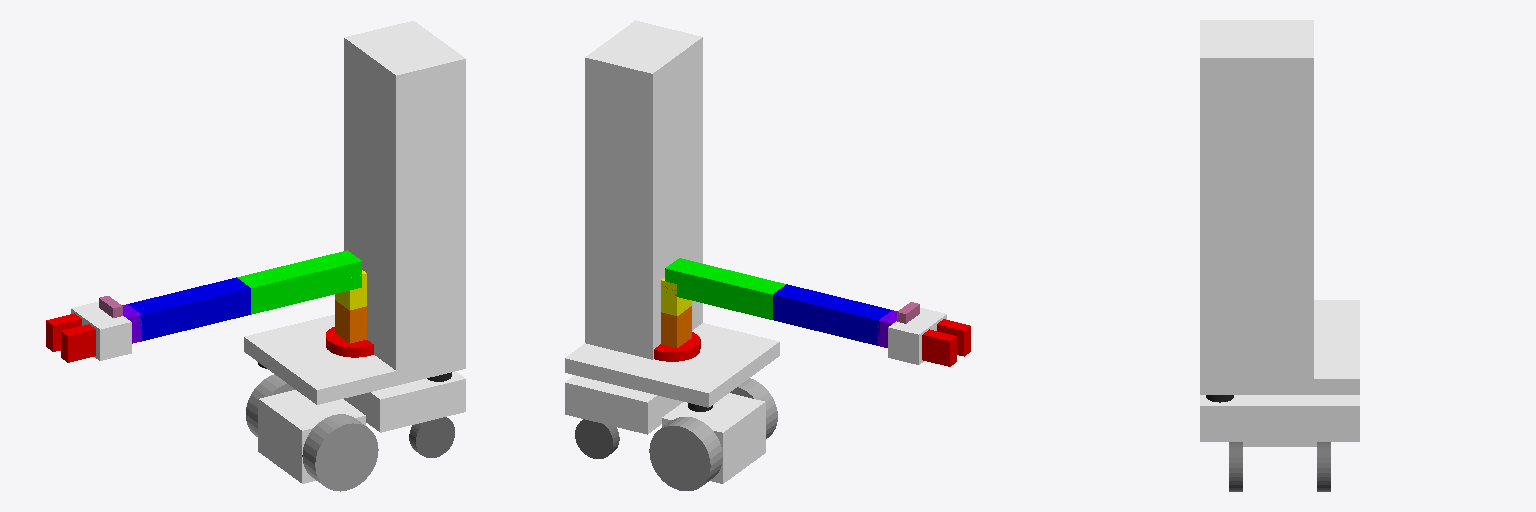
--- Render facts (derived) ---
Views: 3 orthographic renders of the robot side by side, from view 1: azimuth 30°, elevation 25°; view 2: azimuth 150°, elevation 25°; view 3: azimuth 270°, elevation 25°.
Model mbse with 23 links and 22 joints (6 revolute, 6 continuous, 3 prismatic, 7 fixed), rooted at mobilebaseI, posed every joint at zero.
Visible links, largest first — view 1: Torsol, mobilebaseIV, mobilebaseI, Revlink3, Revlink4, Wheel_Left, mobilebaseII, Hand, CasterWheel_Left, FingerLeft, Revlink1, Wheel_Right (+3 smaller); view 2: Torsol, mobilebaseIV, Revlink4, Wheel_Right, mobilebaseI, mobilebaseII, Revlink3, Hand, CasterWheel_Right, FingerRight, Revlink1, Wheel_Left (+3 smaller); view 3: Torsol, mobilebaseII, mobilebaseIV, CasterWheel_Left, CasterWheel_Right.
Boxes of the visible links, <box> form: Torsol: <box>344,21,465,370</box>; mobilebaseIV: <box>244,315,465,404</box>; mobilebaseI: <box>258,390,365,483</box>; Revlink3: <box>237,250,361,314</box>; Revlink4: <box>128,277,250,341</box>; Wheel_Left: <box>302,414,378,491</box>; mobilebaseII: <box>344,371,465,432</box>; Hand: <box>71,302,131,360</box>; CasterWheel_Left: <box>409,417,454,457</box>; FingerLeft: <box>61,324,95,362</box>; Revlink1: <box>335,300,366,343</box>; Wheel_Right: <box>246,374,295,436</box>; Torsol: <box>585,20,702,359</box>; mobilebaseIV: <box>565,323,779,407</box>; Revlink4: <box>773,284,891,345</box>; Wheel_Right: <box>649,417,722,490</box>; mobilebaseI: <box>662,393,765,483</box>; mobilebaseII: <box>565,375,682,434</box>; Revlink3: <box>665,258,785,319</box>; Hand: <box>888,308,946,364</box>; CasterWheel_Right: <box>575,419,619,458</box>; FingerRight: <box>922,329,956,366</box>; Revlink1: <box>661,306,691,347</box>; Wheel_Left: <box>730,378,777,438</box>; Torsol: <box>1200,20,1313,378</box>; mobilebaseII: <box>1200,395,1359,441</box>; mobilebaseIV: <box>1200,300,1359,394</box>; CasterWheel_Left: <box>1229,442,1242,491</box>; CasterWheel_Right: <box>1317,442,1330,491</box>.
Bounding box of the posed robot: 1.18 × 0.4 × 1.22 m (x, y, z).
Geometry: primitives only (box / cylinder / sphere), no mesh files.

URDF robot description (mbse):
<!-- <?xml version="1.0"?> -->


<robot name="mbse">
    
    <link name="mobilebaseI">
        <visual name="mobilebaseI">
            <geometry name = "mobilebaseI">
                <box size="0.200 0.240 0.160"/>
                <origin xyz="0.0 0.0 0.080" rpy="0.0 0.0 0.0"/>
            </geometry>
            <material name="white">
                <color rgba="1.0 1.0 1.0 1.0"/>
            </material>
        </visual>
        <inertial>
            <mass value="2.0"/>
            <inertia ixx="5.0" ixy="0.0" ixz="0.0" 
                     iyy="7.0" iyz="0.0" izz="6.0"/>
        </inertial>
        <collision>
            <origin xyz="0.0 0.0 0.080" rpy="0.0 0.0 0.0"/>
            <geometry name = "mobilebaseI">
                <box size="0.200 0.240 0.160"/>
                
            </geometry>
        </collision>
    </link>

    <link name="mobilebaseII">
        <visual name="mobilebaseII">
            <geometry name = "mobilebaseII">
                <box size="0.270 0.400 0.100"/>
                <origin xyz="0.0 0.0 0.00" rpy="0.0 0.0 0.0"/>
            </geometry>
            <material name="white">
            </material>
        </visual>
        <inertial>
            <mass value="18.0"/>
            <inertia ixx="8.0" ixy="0.0" ixz="0.0" 
                     iyy="2.0" iyz="0.0" izz="1.0"/>
        </inertial>
        <collision>
            <origin xyz="0.0 0.0 0.00" rpy="0.0 0.0 0.0"/>
            <geometry name = "mobilebaseII">
                <box size="0.270 0.400 0.100"/>
                
            </geometry>
        </collision>
    </link>

    <joint name="MobileBaseWheel" type="fixed">
        <origin xyz="0.235 0.0 0.110" rpy="0.0 0.0 0.0"/>
        <parent link="mobilebaseI"/>
        <child link="mobilebaseII"/>
    </joint>

    <link name="Wheel_Right">
        <inertial>
            <mass value="1.5"/>
            <inertia ixx="8.0" ixy="0.0" ixz="0.0" 
                     iyy="4.0" iyz="0.0" izz="4.0"/>
        </inertial>
        <visual name="Wheel">
            <origin xyz="0.0 0.0 0.0" rpy="0.0 0.0 0.0"/>
            <geometry name = "wheel">
                <cylinder radius="0.100" length="0.070"/>
            </geometry>
            <material name="Gray1">
                <color rgba="0.7 0.7 0.7 1.0"/>
            </material>
        </visual>
        <collision>
            <origin xyz="0.0 0.0 0.0" rpy="0.0 0.0 0.0"/>
            <geometry name = "wheel">
                <cylinder radius="0.100" length="0.070"/>
                
            </geometry>
        </collision>
    </link>

    <joint name="WheelR" type="continuous">
        <origin xyz="0.0 0.155 0.005" rpy="1.57 0.0 0.0"/>
        <parent link="mobilebaseI"/>
        <child link="Wheel_Right"/>
        <axis xyz="0.0 0.0 1.0"/>
        <limit effort="1000.0" velocity="10.0"/>
    </joint>

    <link name="Wheel_Left">
        <inertial>
            <mass value="1.5"/>
            <inertia ixx="8.0" ixy="0.0" ixz="0.0" 
                     iyy="4.0" iyz="0.0" izz="4.0"/>
        </inertial>
        <visual name="Wheel">
            <origin xyz="0.0 0.0 0.0" rpy="0.0 0.0 0.0"/>
            <geometry name = "wheel">
                <cylinder radius="0.100" length="0.070"/>
            </geometry>
            <material name="Gray1">
                <color rgba="0.7 0.7 0.7 1.0"/>
            </material>
        </visual>
        <collision>
            <origin xyz="0.0 0.0 0.0" rpy="0.0 0.0 0.0"/>
            <geometry name = "wheel">
                <cylinder radius="0.100" length="0.070"/>
                
            </geometry>
        </collision>
    </link>

    <joint name="WheelL" type="continuous">
        <origin xyz="0.0 -0.155 0.005" rpy="1.57 0.0 0.0"/>
        <parent link="mobilebaseI"/>
        <child link="Wheel_Left"/>
        <axis xyz="0.0 0.0 1.0"/>
        <limit effort="1000.0" velocity="10.0"/>
    </joint>

    <link name="CasterCase_Left">
        <inertial>
            <mass value="0.06"/>
            <inertia ixx="0.2" ixy="0.0" ixz="0.0" 
                     iyy="0.6" iyz="-0.7" izz="0.2"/>
        </inertial>
        <visual name="CasterCase">
            <origin xyz="0.0 0.0 -0.005" rpy="0.0 0.0 0.0"/>
            <geometry name = "CasterC">
                <cylinder radius="0.025" length="0.010"/>
            </geometry>
            <material name="Gray1">
                <color rgba="0.7 0.7 0.7 1.0"/>
            </material>
        </visual>
        <collision>
            <origin xyz="0.0 0.0 -0.005" rpy="0.0 0.0 0.0"/>
            <geometry name = "CasterC">
                <cylinder radius="0.025" length="0.010"/>
                
            </geometry>
        </collision>
    </link>

    <joint name="CasterCL" type="fixed">
        <origin xyz="0.040 -0.110 -0.05" rpy="0.0 0.0 0.0"/>
        <parent link="mobilebaseII"/>
        <child link="CasterCase_Left"/>
        <axis xyz="0.0 0.0 1.0"/>
    </joint>

    <link name="CasterWheel_Left">
        <inertial>
            <mass value="0.3"/>
            <inertia ixx="0.6" ixy="0.0" ixz="0.0" 
                     iyy="0.3" iyz="0.0" izz="0.3"/>
        </inertial>
        <visual name="CasterWheel">
            <origin xyz="0.0 0.0 0.0" rpy="0.0 0.0 0.0"/>
            <geometry name = "Casterwheel">
                <cylinder radius="0.0625" length="0.036"/>
            </geometry>
            <material name="Gray2">
                <color rgba="0.5 0.5 0.5 1.0"/>
            </material>
        </visual>
        <collision>
            <origin xyz="0.0 0.0 0.0" rpy="0.0 0.0 0.0"/>
            <geometry name = "Casterwheel">
                <cylinder radius="0.0625" length="0.036"/>
                
            </geometry>
        </collision>
    </link>

    <joint name="CasterWheelL" type="continuous">
        <origin xyz="0.0405 0.0 -0.0925" rpy="1.57 0.0 0.0"/>
        <parent link="CasterCase_Left"/>
        <child link="CasterWheel_Left"/>
        <axis xyz="0.0 0.0 1.0"/>
    </joint>

    <link name="CasterCase_Right">
        <inertial>
            <mass value="0.06"/>
            <inertia ixx="0.2" ixy="0.0" ixz="0.0" 
                     iyy="0.6" iyz="-0.7" izz="0.2"/>
        </inertial>
        <visual name="CasterCase">
            <origin xyz="0.0 0.0 -0.005" rpy="0.0 0.0 0.0"/>
            <geometry name = "CasterC">
                <cylinder radius="0.025" length="0.010"/>
            </geometry>
            <material name="Gray1">
                <color rgba="0.7 0.7 0.7 1.0"/>
            </material>
        </visual>
        <collision>
            <origin xyz="0.0 0.0 -0.005" rpy="0.0 0.0 0.0"/>
            <geometry name = "CasterC">
                <cylinder radius="0.025" length="0.010"/>
                
            </geometry>
        </collision>
    </link>

    <joint name="CasterCR" type="fixed">
        <origin xyz="0.040 0.110 -0.05" rpy="0.0 0.0 0.0"/>
        <parent link="mobilebaseII"/>
        <child link="CasterCase_Right"/>
        <axis xyz="1.0 0.0 0.0"/>
    </joint>

    <link name="CasterWheel_Right">
        <inertial>
            <mass value="0.3"/>
            <inertia ixx="0.6" ixy="0.0" ixz="0.0" 
                     iyy="0.3" iyz="0.0" izz="0.3"/>
        </inertial>
        <visual name="CasterWheel">
            <origin xyz="0.0 0.0 0.0" rpy="0.0 0.0 0.0"/>
            <geometry name = "Casterwheel">
                <cylinder radius="0.0625" length="0.036"/>
            </geometry>
            <material name="Gray2">
                <color rgba="0.5 0.5 0.5 1.0"/>
            </material>
        </visual>
        <collision>
            <origin xyz="0.0 0.0 0.0" rpy="0.0 0.0 0.0"/>
            <geometry name = "Casterwheel">
                <cylinder radius="0.0625" length="0.036"/>
                 
            </geometry>
        </collision>
    </link>

    <joint name="CasterWheelR" type="continuous">
        <origin xyz="0.0405 0.0 -0.0925" rpy="1.57 0.0 0.0"/>
        <parent link="CasterCase_Right"/>
        <child link="CasterWheel_Right"/>
        <axis xyz="0.0 0.0 1.0"/>
    </joint>

    <link name="mobilebaseIII">
        <inertial>
            <mass value="10.0"/>
            <inertia ixx="0.6" ixy="0.0" ixz="0.0" 
                     iyy="0.1" iyz="0.0" izz="0.4"/>
        </inertial>
        <visual name = "mobilebaseIII">
            <origin xyz="0.0 0.0 0.0" rpy="0.0 0.0 0.0"/>
            <geometry name = "mobilebaseIII">
                <box size="0.235 0.180 0.030"/>
            </geometry >
            <material name="white"></material>
        </visual>
        <collision>
            <origin xyz="0.0 0.0 0.0" rpy="0.0 0.0 0.0"/>
            <geometry name = "mobilebaseIII">
                <box size="0.235 0.180 0.030"/>
                
            </geometry >
        </collision>
    </link>

    <joint name="MobileBaseLidar" type="fixed">     
        <origin xyz="-0.100 0.0 0.065" rpy="0.0 0.0 0.0"/>
        <parent link="mobilebaseII"/>
        <child link="mobilebaseIII"/>
        <axis xyz="0.0 0.0 1.0"/>
    </joint>

    <link name="mobilebaseIV">
        <inertial>
            <mass value="1.0"/>
            <inertia ixx="0.2" ixy="0.0" ixz="0.0" 
                     iyy="0.3" iyz="0.0" izz="0.1"/>
        </inertial>
        <visual name = "mobilebaseIII">
            <origin xyz="0.0 0.0 0.0" rpy="0.0 0.0 0.0"/>
            <geometry name = "mobilebaseIV">
                <box size="0.470 0.400 0.045"/>
            </geometry >
            <material name="white"></material>
        </visual>
        <collision>
            <origin xyz="0.0 0.0 0.0" rpy="0.0 0.0 0.0"/>
            <geometry name = "mobilebaseIV">
                <box size="0.470 0.400 0.045"/>
                
            </geometry >
        </collision>
    </link>

    <joint name="MobileBaseTorsol" type="fixed">
        <origin xyz="0.0 0.0 0.0375" rpy="0.0 0.0 0.0"/>
        <parent link="mobilebaseIII"/>
        <child link="mobilebaseIV"/>
    </joint>

    <link name="Lidar_Front">
        <inertial>
            <mass value="0.3"/>
            <inertia ixx="0.4" ixy="0.0" ixz="0.0" 
                     iyy="0.7" iyz="0.0" izz="0.4"/>
        </inertial>
        <visual name="Lidar_Front">
            <origin xyz="0.0 0.0 0.0" rpy="0.0 0.0 0.0"/>
            <geometry name = "Lidar_front">
                <cylinder radius="0.035" length="0.030"/>
            </geometry>
            <material name="Gray4">
                <color rgba="0.2 0.2 0.2 1.0"/>
            </material>
        </visual>
        <collision>
            <geometry name = "Lidar_front">
                <origin xyz="0.0 0.0 0.0" rpy="0.0 0.0 0.0"/>
                <cylinder radius="0.035" length="0.030"/>
                
            </geometry>
        </collision>
    </link>

    <joint name="LidarF" type="continuous">
        <origin xyz="-0.178 0.150 0.0" rpy="0.0 0.0 0.0"/>
        <parent link="mobilebaseIII"/>
        <child link="Lidar_Front"/>
        <axis xyz="1.0 0.0 0.0"/>
    </joint>

    <link name="Lidar_Back">
        <inertial>
            <mass value="0.3"/>
            <inertia ixx="0.4" ixy="0.0" ixz="0.0" 
                     iyy="0.7" iyz="0.0" izz="0.4"/>
        </inertial>
        <visual name="Lidar_Back">
            <origin xyz="0.0 0.0 0.0" rpy="0.0 0.0 0.0"/>
            <geometry name = "Lidar_back">
                <cylinder radius="0.035" length="0.030"/>
            </geometry>
            <material name="Gray4">
                <color rgba="0.2 0.2 0.2 1.0"/>
            </material>
        </visual>
        <collision>
            <origin xyz="0.0 0.0 0.0" rpy="0.0 0.0 0.0"/>
            <geometry name = "Lidar_back">
                <cylinder radius="0.035" length="0.030"/>
                
            </geometry>
        </collision>
    </link>

    <joint name="LidarB" type="continuous">
        <origin xyz="0.178 -0.150 0.0" rpy="0.0 0.0 0.0"/>
        <parent link="mobilebaseIII"/>
        <child link="Lidar_Back"/>
        <axis xyz="1.0 0.0 0.0"/>
    </joint>

    <link name="Torsol">
        <inertial>
            <mass value="0.8"/>
            <inertia ixx="7.0" ixy="5.0" ixz="8.0" 
                     iyy="4.0" iyz="4.0" izz="7.0"/>
        </inertial>
        <visual name="Body">
            <origin xyz="0.125 0.0 0.445" rpy="0.0 0.0 0.0"/>
            <geometry name = "body">
                <box size="0.220 0.285 0.890"/>
            </geometry>
            <material name="white"></material>
        </visual>
        <collision>
            <origin xyz="0.125 0.0 0.445" rpy="0.0 0.0 0.0"/>
            <geometry name = "body">
                <box size="0.220 0.285 0.890"/>
                
            </geometry>
        </collision>
    </link>

    <joint name="BaseTorsol" type="fixed">
        <origin xyz="0.0 -0.0575 0.0225" rpy="0.0 0.0 0.0"/>
        <parent link="mobilebaseIV"/>
        <child link="Torsol"/>
    </joint>

    <!-- <link name="TorsolCamera">
        <inertial>
            <mass value="0.2"/>
            <inertia ixx="0.6" ixy="0.0" ixz="0.0" 
                     iyy="0.1" iyz="0.0" izz="0.1"/>
        </inertial>
        <visual name="Camera">
            <origin xyz="0.0 0.0 0.89" rpy="0.0 0.0 0.0"/>
            <geometry name = "Camera">
                <box size="0.03 0.08 0.03"/>
            </geometry>
            <material name="black"></material>
        </visual>
        <collision>
            <geometry name = "Camera">
                <box size="0.03 0.08 0.03"/>
            </geometry>
        </collision>
    </link>

    <joint name="BodyCam" type="revolute">
        <origin xyz="0.050 0.0 0.9525" rpy="0.0 0.0 0.0"/>
        <parent link="mobilebaseIV"/>
        <child link="TorsolCamera"/>
        <axis xyz="0.0 1.0 0.0"/>
       
    </joint> -->

    <link name="LinearJoint">
        <inertial>
            <mass value="0.5"/>
            <inertia ixx="7.0" ixy="-5.0" ixz="8.0" 
                     iyy="4.0" iyz="4.0" izz="7.0"/>
        </inertial>
        <visual>
            <origin xyz="0.0 0.0 0.0" rpy="0.0 0.0 0.0"/>
            <geometry name = "LinearJ">
                <cylinder radius="0.080" length="0.050"/>
            </geometry>
            <material name="Red">
                <color rgba="1.0 0.0 0.0 1.0"/>
            </material>
        </visual>
        <collision>
            <origin xyz="0.0 0.0 0.0" rpy="0.0 0.0 0.0"/>
            <geometry name = "LinearJ">
                <cylinder radius="0.080" length="0.050"/>
                
            </geometry>
        </collision>
    </link>

    <joint name="LinJ" type="prismatic">
        <origin xyz="0.0 0.0 0.0275" rpy="0.0 0.0 0.0"/>
        <parent link="mobilebaseIV"/>
        <child link="LinearJoint"/>
        <axis xyz="0.0 0.0 1.0"/>
        <limit lower="0.0" upper="0.650" effort="1000.0" velocity="10.0"/>
    </joint>

    <link name="Revlink1">
        <inertial>
            <mass value="0.1"/>
            <inertia ixx="0.4" ixy="0.0" ixz="0.0" 
                     iyy="0.4" iyz="0.7" izz="0.1"/>
        </inertial>
        <visual >
            <origin xyz="0.0 0.0 -0.050" rpy="0.0 0.0 0.0"/>
            <geometry name="RevL1">
                <box size="0.080 0.080 0.100"/>
            </geometry>
            <material name="Orange">
                <color rgba="1.0 0.5 0.0 1.0"/>
            </material>
        </visual>
        <collision>
            <origin xyz="0.0 0.0 -0.050" rpy="0.0 0.0 0.0"/>
            <geometry name="RevL1">
                <box size="0.080 0.080 0.100"/>
               
            </geometry>
        </collision>
    </link>

    <joint name="RevJ1" type="revolute">
        <origin xyz="0.0 0.0 0.125" rpy="0.0 0.0 0.0"/>
        <parent link="LinearJoint"/>
        <child link="Revlink1"/>
        <axis xyz="0.0 0.0 1.0"/>
        <limit effort="1000.0" lower="-1.3" upper="1.3" velocity="0.5"/>
        
    </joint>

    <link name="Revlink2">
        <inertial>
            <mass value="0.1"/>
            <inertia ixx="0.9" ixy="0.0" ixz="0.0" 
                     iyy="0.4" iyz="0.0" izz="0.9"/>
        </inertial>
        <visual >
            <origin xyz="0.0 0.0 -0.050" rpy="0.0 0.0 0.0"/>
            <geometry name="RevL2">
                <box size="0.080 0.080 0.100"/>
            </geometry>
            <material name="Yellow">
                <color rgba="1.0 1.0 0.0 1.0"/>
            </material>
        </visual>
        <collision>
            <origin xyz="0.0 0.0 -0.050" rpy="0.0 0.0 0.0"/>
            <geometry name="RevL2">
                <box size="0.080 0.080 0.100"/>
                
            </geometry>
        </collision>
    </link>

    <joint name="RevJ2" type="revolute">
        <origin xyz="0.0 0.0 0.100" rpy="0.0 0.0 0.0"/>
        <parent link="Revlink1"/>
        <child link="Revlink2"/>
        <axis xyz="1.0 0.0 0.0"/>
        <limit effort="1000.0" lower="-0.5" upper="0.3" velocity="0.5"/>
       
    </joint>

    <link name="Revlink3">
        <inertial>
            <mass value="0.1"/>
            <inertia ixx="0.9" ixy="0.0" ixz="0.0" 
                     iyy="0.1" iyz="0.5" izz="0.8"/>
        </inertial>
        <visual >
            <origin xyz="-0.175 0.0 0.0" rpy="0.0 1.57 0.0"/>
            <geometry name="RevL3">
                <box size="0.080 0.080 0.350"/>
            </geometry>
            <material name="Green">
                <color rgba="0.0 1.0 0.0 1.0"/>
            </material>
        </visual>
        <collision>
            <geometry name="RevL3">
                <origin xyz="-0.175 0.0 0.0" rpy="0.0 1.57 0.0"/>
                <box size="0.080 0.080 0.350"/>
                
            </geometry>
        </collision>
    </link>

    <joint name="RevJ3" type="revolute">
        <origin xyz="0.0 0.0 0.0" rpy="0.0 0.0 0.0"/>
        <parent link="Revlink2"/>
        <child link="Revlink3"/>
        <axis xyz="0.0 1.0 0.0"/>
        <limit effort="1000.0" lower="-3.14" upper="3.14" velocity="0.5"/>
      
    </joint>

    <link name="Revlink4">
        <inertial>
            <mass value="0.1"/>
            <inertia ixx="0.9" ixy="0.0" ixz="0.0" 
                     iyy="0.1" iyz="0.5" izz="0.8"/>
        </inertial>
        <visual >
            <origin xyz="-0.175 0.0 0.0" rpy="0.0 1.57 0.0"/>
            <geometry name="RevL4">
                <box size="0.080 0.080 0.350"/>
            </geometry>
            <material name="Blue">
                <color rgba="0.0 0.0 1.0 1.0"/>
            </material>
        </visual>
        <collision>
            <origin xyz="-0.175 0.0 0.0" rpy="0.0 1.57 0.0"/>
            <geometry name="RevL4">
                <box size="0.080 0.080 0.350"/>
                
            </geometry>
        </collision>
    </link>

    <joint name="RevJ4" type="revolute">
        <origin xyz="-0.350 0.0 0.0" rpy="0.0 0.0 0.0"/>
        <parent link="Revlink3"/>
        <child link="Revlink4"/>
        <axis xyz="0.0 1.0 0.0"/>
        <limit effort="1000.0" lower="-1.9" upper="1.5" velocity="0.5"/>
      
    </joint>

    <link name="Revlink5">
        <inertial>
            <mass value="0.1"/>
            <inertia ixx="0.1" ixy="0.0" ixz="0.0" 
                     iyy="0.1" iyz="0.0" izz="0.1"/>
        </inertial>
        <visual >
            <origin xyz="-0.04 0.0 0.0" rpy="0.0 1.57 0.0"/>
            <geometry name="RevL5">
                <box size="0.080 0.080 0.050"/>
            </geometry>
            <material name="Purple">
                <color rgba="0.5 0.0 1.0 1.0"/>
            </material>
        </visual>
        <collision>
            <origin xyz="-0.175 0.0 0.0" rpy="0.0 1.57 0.0"/>
            <geometry name="RevL5">
                <box size="0.080 0.080 0.050"/>
                
            </geometry>
        </collision>
    </link>

    <joint name="RevJ5" type="revolute">
        <origin xyz="-0.330 0.0 0.0" rpy="0.0 0.0 0.0"/>
        <parent link="Revlink4"/>
        <child link="Revlink5"/>
        <axis xyz="0.0 1.0 0.0"/>
        <limit effort="1000.0" lower="-3.14" upper="3.14" velocity="0.5"/>
    </joint>

    <link name="Hand">
        <inertial>
            <mass value="0.05"/>
            <inertia ixx="0.4" ixy="0.0" ixz="0.0" 
                     iyy="0.4" iyz="0.0" izz="0.4"/>
        </inertial>
        <visual >
            <origin xyz="-0.050 0.0 0.0" rpy="0.0 0.0 0.0"/>
            <geometry name="Hand">
                <box size="0.100 0.160 0.095"/>
            </geometry>
            <material name="white"></material>
        </visual>
        <collision>
            <origin xyz="-0.050 0.0 0.0" rpy="0.0 0.0 0.0"/>
            <geometry name="Hand">
                <box size="0.100 0.160 0.095"/>
                
            </geometry>
        </collision>
    </link>

    <joint name="HandGripper" type="revolute">
        <origin xyz="-0.07 0.0 0.0" rpy="0.0 0.0 0.0"/>
        <parent link="Revlink5"/>
        <child link="Hand"/>
        <axis xyz="1.0 0.0 0.0"/>
        <limit effort="1000.0" lower="-1.65" upper="1.65" velocity="0.5"/>
        
    </joint>

    <link name="FingerLeft">
        <inertial>
            <mass value="0.05"/>
            <inertia ixx="0.5" ixy="0.0" ixz="0.0" 
                     iyy="0.4" iyz="0.0" izz="0.5"/>
        </inertial>
        <visual>
            <origin xyz = "-0.080 0.0 0.0" rpy="0.0 0.0 0.0"/>
            <geometry name="FingerL">
                <box size="0.160 0.040 0.080"/>
            </geometry>
            <material name="Red"></material>
        </visual>
        <collision>
            <origin xyz = "-0.080 0.0 0.0" rpy="0.0 0.0 0.0"/>
            <geometry name="FingerL">
                <box size="0.160 0.040 0.080"/>
                
            </geometry>
        </collision>
    </link>

    <joint name="FingerL" type="prismatic">
        <origin xyz="-0.03 -0.04 0.0" rpy="0.0 0.0 0.0"/>
        <parent link="Hand"/>
        <child link="FingerLeft"/>
        <axis xyz="0.0 1.0 0.0"/>
        <limit effort="1000.0" lower="-0.02" upper="0.1" velocity="0.5"/>
    </joint>

    <link name="FingerRight">
        <inertial>
            <mass value="0.05"/>
            <inertia ixx="0.5" ixy="0.0" ixz="0.0" 
                     iyy="0.4" iyz="0.0" izz="0.5"/>
        </inertial>
        <visual>
            <origin xyz = "-0.080 0.0 0.0" rpy="0.0 0.0 0.0"/>
            <geometry name="FingerR">
                <box size="0.160 0.040 0.080"/>
            </geometry>
            <material name="Red"></material>
        </visual>
        <collision>
            <origin xyz = "-0.080 0.0 0.0" rpy="0.0 0.0 0.0"/>
            <geometry name="FingerR">
                <box size="0.160 0.040 0.080"/>
                
            </geometry>
        </collision>
    </link>

    <joint name="FingerR" type="prismatic">
        <origin xyz="-0.03 0.04 0.0" rpy="0.0 0.0 0.0"/>
        <parent link="Hand"/>
        <child link="FingerRight"/>
        <axis xyz="0.0 1.0 0.0"/>
        <limit effort="1000.0" lower="-0.1" upper="0.02" velocity="0.5"/>
    </joint>

    <link name="HandCamera">
        <inertial>
            <mass value="0.2"/>
            <inertia ixx="0.6" ixy="0.0" ixz="0.0" 
                     iyy="0.1" iyz="0.0" izz="0.1"/>
        </inertial>
        <visual name="Camera">
            <origin xyz="0.0 0.0 0.0" rpy="0.0 0.0 0.0"/>
            <geometry name = "Camera">
                <box size="0.03 0.08 0.03"/>
            </geometry>
            <material name="black"></material>
        </visual>
        <collision>
            <origin xyz="0.0 0.0 0.0" rpy="0.0 0.0 0.0"/>
            <geometry name = "Camera">
                <box size="0.03 0.08 0.03"/>
                
            </geometry>
        </collision>
    </link>

    <joint name="HandCam" type="fixed">
        <origin xyz="-0.02 0.0 0.065" rpy="0.0 0.0 0.0"/>
        <parent link="Hand"/>
        <child link="HandCamera"/>
    </joint> 

</robot>
